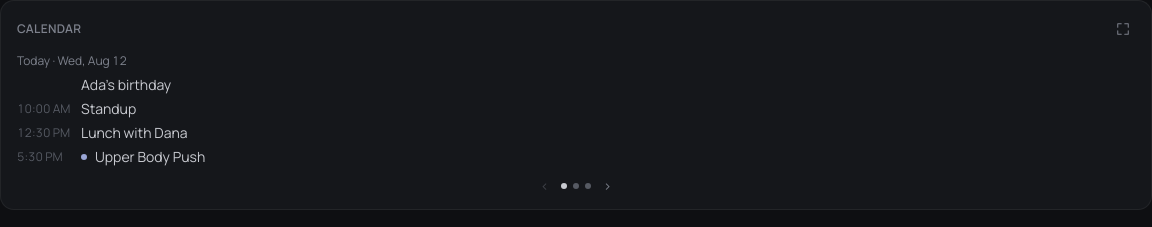
CalendarCard › pages on a swipe past the threshold, and not on a tap that wandered
Check: the text "Today · Wed, Aug 12" is shown, box [17, 52, 127, 69]
Press the mouse on the element named "Calendar": coordinates (34, 60) [17, 52, 616, 193]
Check: the text "Today · Wed, Aug 12" is shown, box [17, 52, 127, 69]
Press the mouse on the element named "Calendar": coordinates (34, 60) [17, 52, 616, 193]
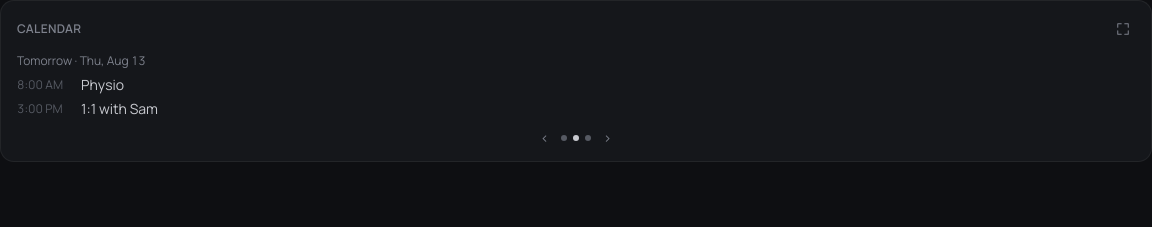
Check: the text "Tomorrow · Thu, Aug 13" is shown, box [17, 52, 146, 69]
